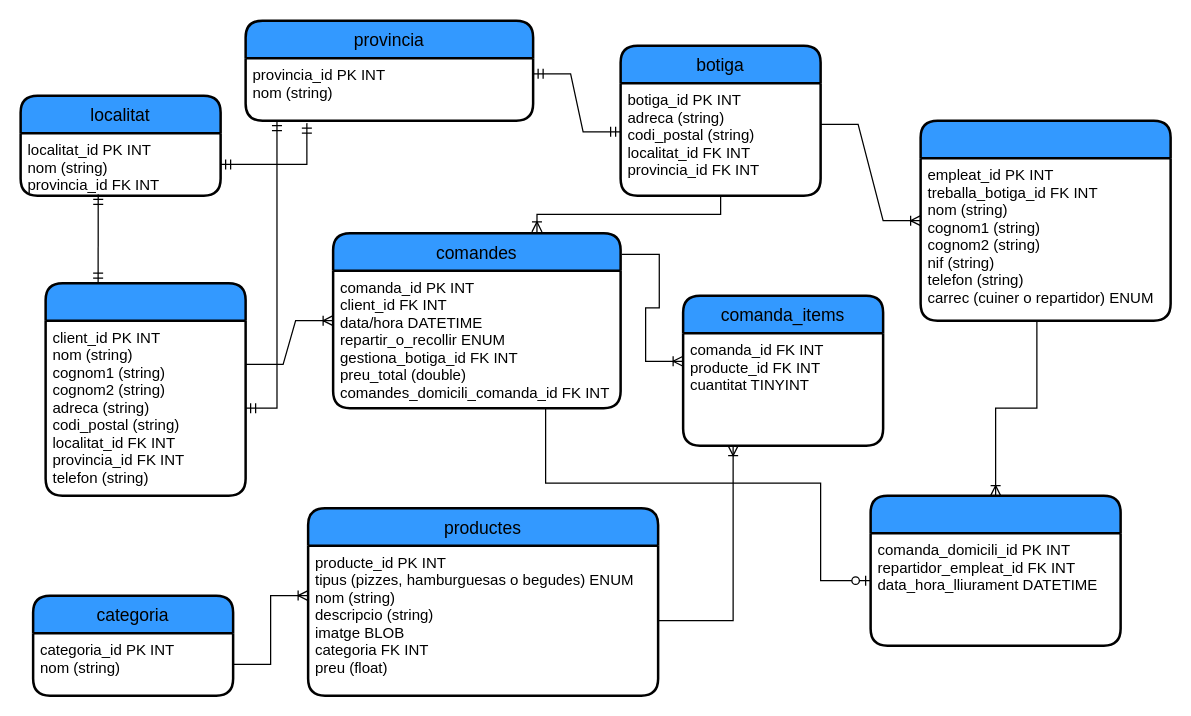
Some shapes in this 1191 by 716 pixel diagram are drawn without their labels. Here are the shapes that lost their labels. From the top down, the box of each, then its label:
(919, 119, 1171, 321): empleats
(44, 281, 246, 496): clients
(869, 494, 1121, 646): comandes_domicili
